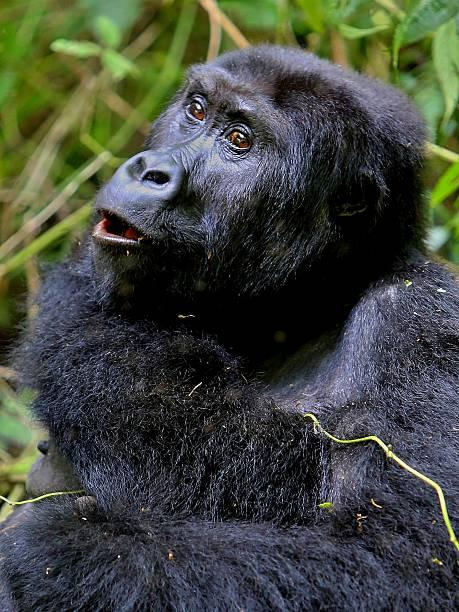goriile_montagne: (3, 30, 459, 612)
